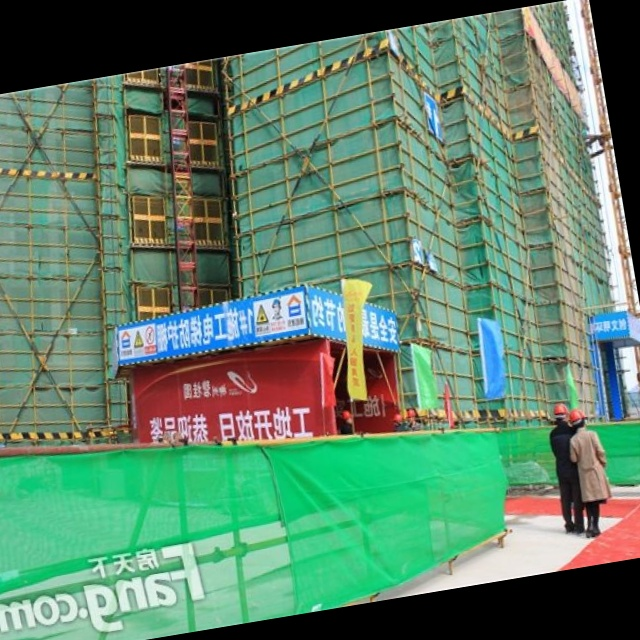Con_Casco: (566, 407, 586, 431), (551, 400, 570, 425)
